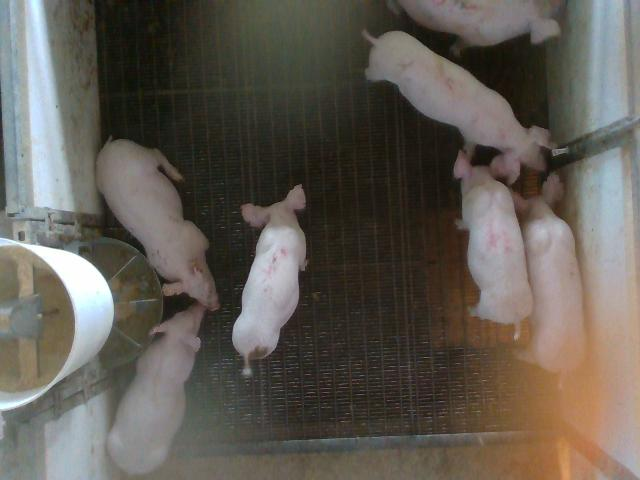pig-3: (398, 0, 560, 49)
pig-4: (454, 151, 534, 338)
pig-5: (232, 185, 308, 376)
